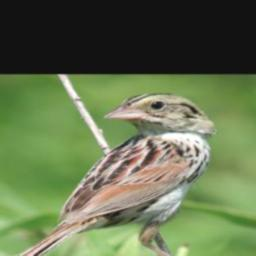Sparrow: (3, 92, 218, 256)
